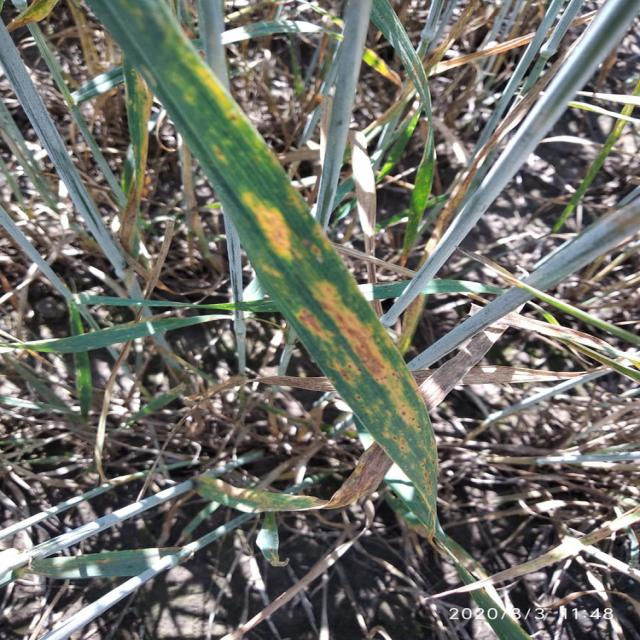wheat-septoria: (155, 21, 439, 514)
